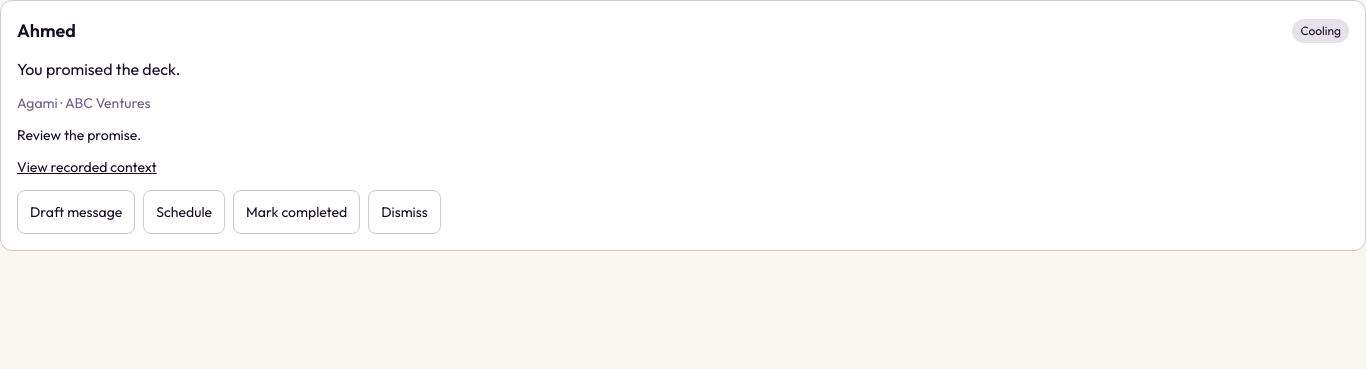
it: Approved relationship actions › dismissal is reviewed and keeps the underlying promise
This screenshot has width=1366, height=369.
Click the button "Dismiss".
click(404, 212)  # box [368,190,441,234]
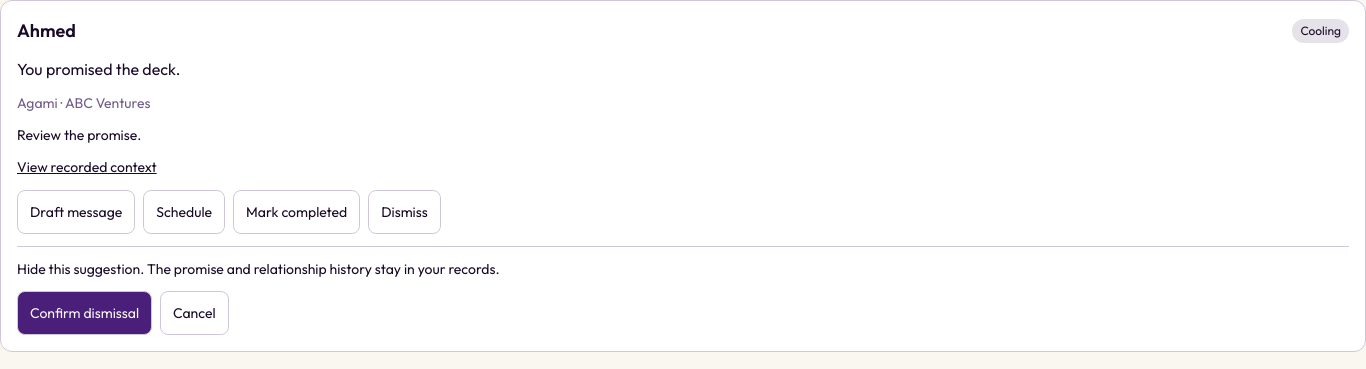
Check: the text "promise and relationship history stay" is shown, box [17,260,500,278]
Click the button "Cancel".
click(194, 313)  # box [160,291,229,335]
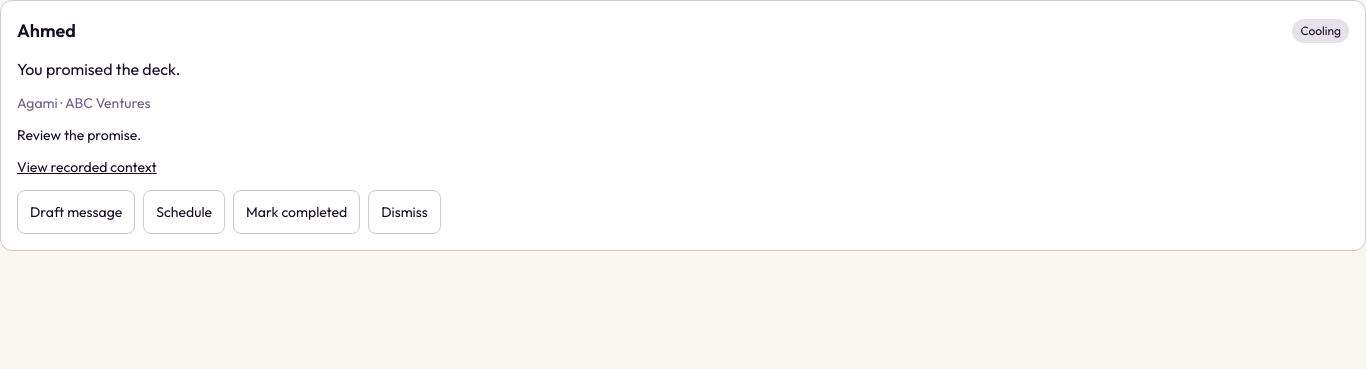
Check: the button "Confirm dismissal" is gone
